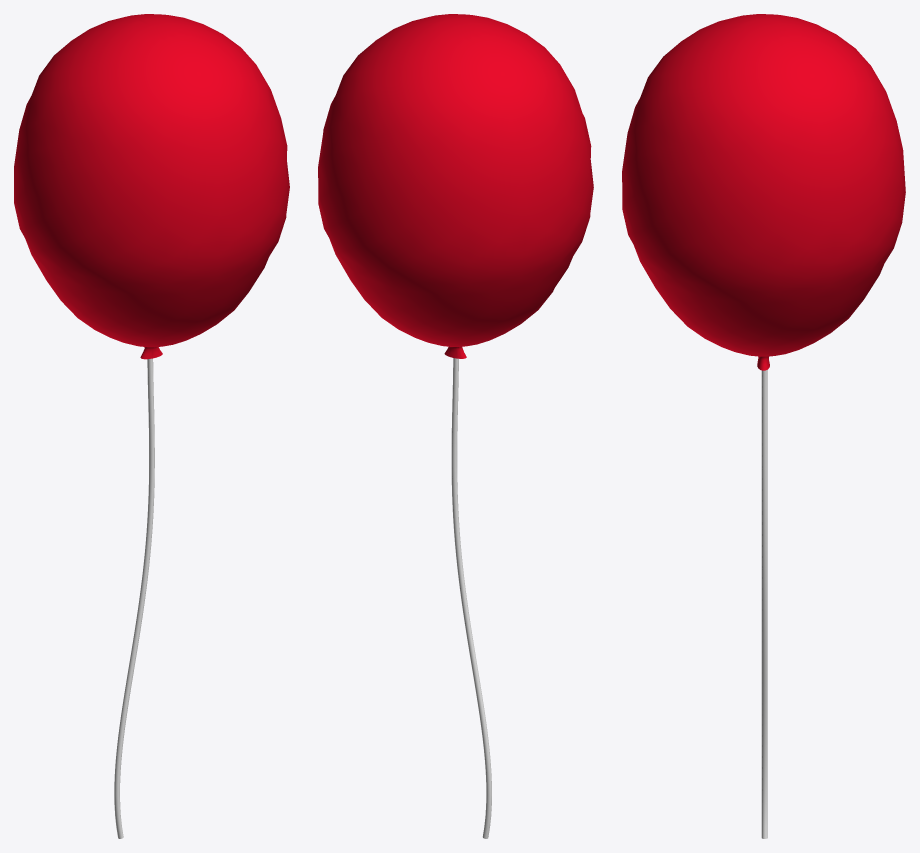
Rendered from globo.glb.
3 renders of one model, left to right at view 1: azimuth 30°, elevation 25°; view 2: azimuth 150°, elevation 25°; view 3: azimuth 270°, elevation 25°, orthographic. The views are drawn at different scales.
Parts seen in each view (by area): view 1: Esfera, Curva NURBS; view 2: Esfera, Curva NURBS; view 3: Esfera, Curva NURBS.
Part boxes in pixels (x1,y1,x2,y2): Esfera: (14,14,289,359); Curva NURBS: (114,358,154,838); Esfera: (318,14,593,358); Curva NURBS: (451,358,491,838); Esfera: (622,14,905,370); Curva NURBS: (761,370,767,838).
Size of the model in its own units: 1.92 by 6.19 by 1.93.
